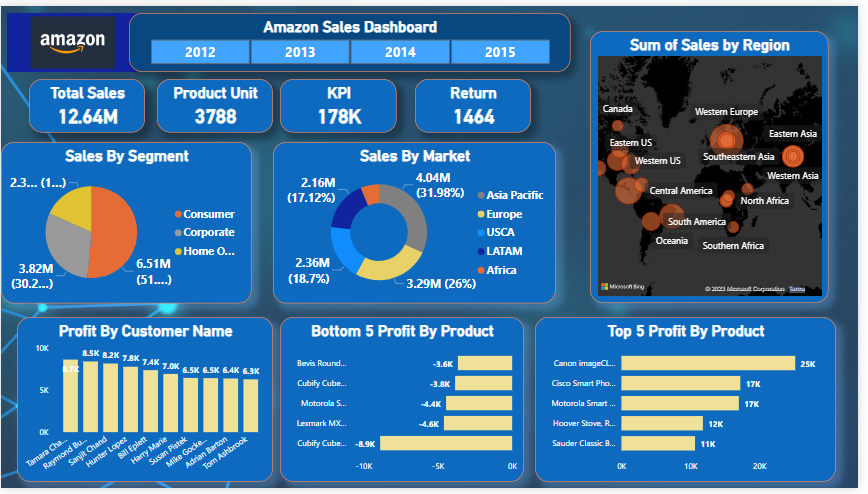

What the dashboard file says about the page in this screenshot:
{"tool":"powerbi","page":{"name":"Page 1","canvas":[1280,720],"ordinal":0},"visuals":[{"type":"image","box":[8.2,10.6,195.3,88.2],"z":0},{"type":"slicer","title":"Amazon Sales Dashboard ","fields":{"Values":["Orders.Year"]},"box":[191.8,10.6,658.8,88.2],"z":1000},{"type":"card","title":"Total  Sales ","fields":{"Values":["Orders.Sales"]},"box":[42.4,108.2,172.9,80],"z":2000},{"type":"card","title":"Product Unit ","fields":{"Values":["Orders.Product Name"]},"box":[232.9,108.2,172.9,80],"z":3000},{"type":"card","title":"KPI","fields":{"Values":["Orders.Quantity"]},"box":[416.5,108.2,174.1,80],"z":4000},{"type":"card","title":"Return","fields":{"Values":["Orders.Ship Date"]},"box":[617.6,108.2,172.9,80],"z":5000},{"type":"pieChart","title":"Sales By Segment","fields":{"Y":["Orders.Sales"],"Category":["Orders.Segment"]},"box":[8.6,203,462.2,240.5],"z":6000},{"type":"donutChart","title":"Sales By Market","fields":{"Y":["Orders.Sales"],"Category":["Orders.Market"]},"box":[486.7,203,410.4,240.5],"z":7000},{"type":"columnChart","title":"Profit By Customer Name","fields":{"Category":["Orders.Customer Name"],"Y":["Orders.Profit"]},"box":[13,462.2,383,246.2],"z":8000},{"type":"clusteredBarChart","title":"Bottom 5 Profit By Product","fields":{"Y":["Orders.Profit"],"Category":["Orders.Product Name"]},"box":[426.2,462.2,364.3,246.2],"z":9000},{"type":"clusteredBarChart","title":"Top 5 Profit By Product","fields":{"Y":["Orders.Profit"],"Category":["Orders.Product Name"]},"box":[797.8,463.7,449.3,246.2],"z":10000},{"type":"map","fields":{"Size":["Orders.Sales"],"Category":["Orders.Region"]},"box":[910.4,25.4,356.7,406],"z":11000}]}

Visuals, with their boxes in screenshot pixels (x1, y1, x2, y2), scaled from the page's 1280x720 canvas onto the 868x494 screenshot:
image: 6/7/138/68
"Amazon Sales Dashboard " slicer: 130/7/577/68
"Total  Sales " card: 29/74/146/129
"Product Unit " card: 158/74/275/129
"KPI" card: 282/74/401/129
"Return" card: 419/74/536/129
"Sales By Segment" pieChart: 6/139/319/304
"Sales By Market" donutChart: 330/139/608/304
"Profit By Customer Name" columnChart: 9/317/269/486
"Bottom 5 Profit By Product" clusteredBarChart: 289/317/536/486
"Top 5 Profit By Product" clusteredBarChart: 541/318/846/487
map - Orders.Sales x Orders.Region: 617/17/859/296
